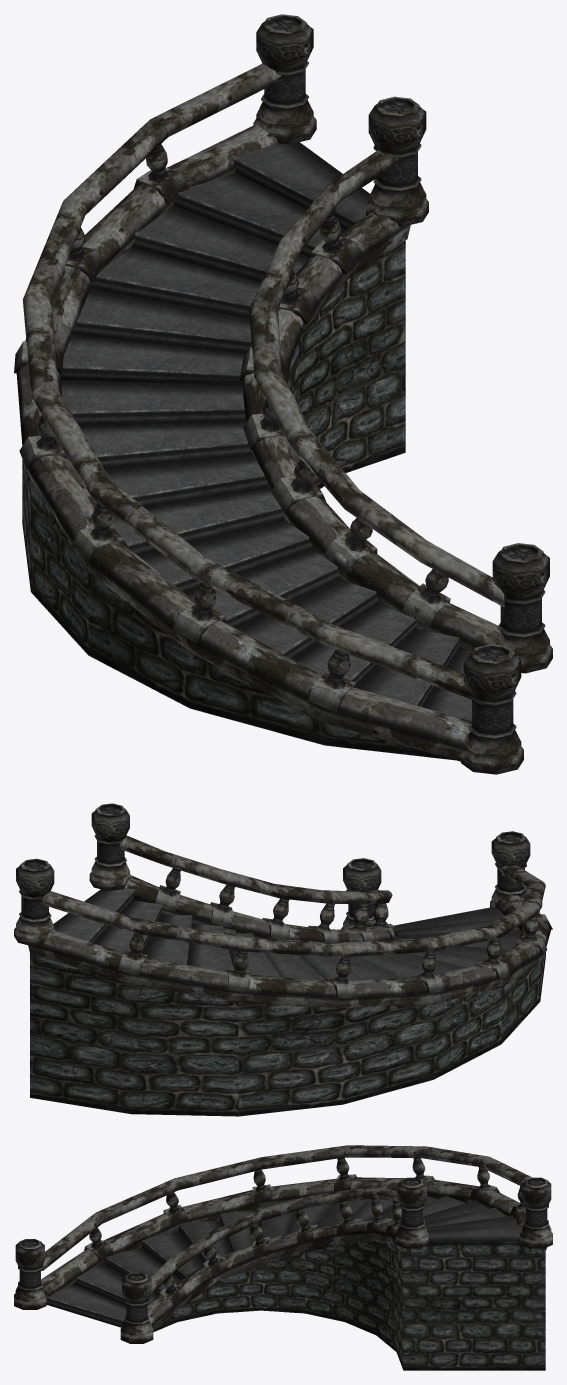
File: round_solid_left.dae
3 views of the same model, one above another, from view 1: azimuth 30°, elevation 25°; view 2: azimuth 150°, elevation 25°; view 3: azimuth 270°, elevation 25° (orthographic). The views are drawn at different scales.
Visible parts, largest first — view 1: polySurface111, polySurface75, polySurface42, polySurface110; view 2: polySurface42, polySurface111, polySurface75, polySurface110; view 3: polySurface42, polySurface111, polySurface75, polySurface110.
Part boxes in pixels (bbox=[...]): polySurface111: bbox=[14, 63, 504, 761]; polySurface75: bbox=[60, 142, 472, 721]; polySurface42: bbox=[22, 240, 455, 760]; polySurface110: bbox=[253, 14, 552, 774]; polySurface42: bbox=[30, 952, 545, 1116]; polySurface111: bbox=[28, 835, 552, 1007]; polySurface75: bbox=[53, 888, 521, 980]; polySurface110: bbox=[14, 803, 530, 946]; polySurface42: bbox=[153, 1241, 545, 1370]; polySurface111: bbox=[41, 1145, 546, 1329]; polySurface75: bbox=[45, 1196, 523, 1327]; polySurface110: bbox=[14, 1177, 552, 1343].
Size of what is drawn, in the model's own units: 8.59 by 5.93 by 15.17.
